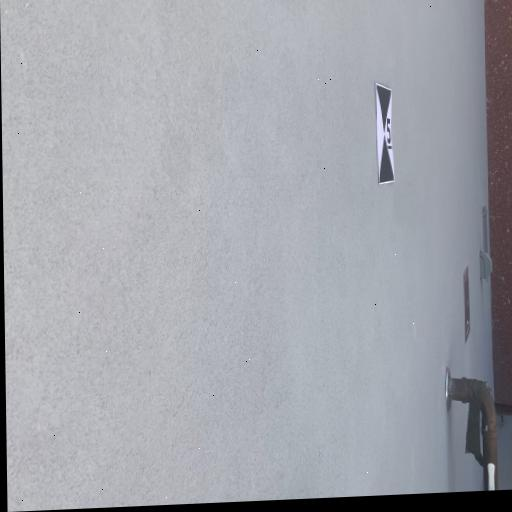target5: (375, 82, 394, 185)
